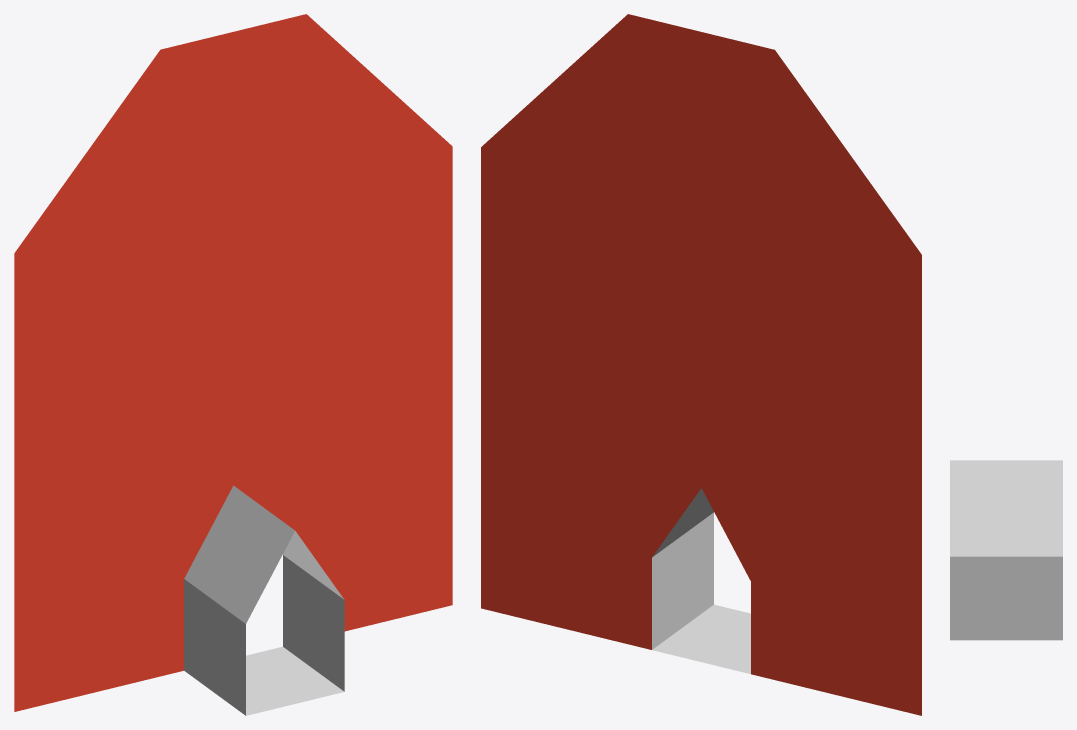
File: windowDoorWall.fbx
The picture shows the model from 3 angles, left to right: view 1: azimuth 30°, elevation 25°; view 2: azimuth 150°, elevation 25°; view 3: azimuth 270°, elevation 25°; orthographic projection. The views are drawn at different scales.
Visible parts, largest first — view 1: WindowDoorWall; view 2: WindowDoorWall; view 3: WindowDoorWall.
Part boxes in pixels (box(x1,y1,x2,y2)): WindowDoorWall: box(14, 14, 452, 715); WindowDoorWall: box(481, 14, 921, 715); WindowDoorWall: box(950, 460, 1062, 640).
Bounding box in the file's own units: 200 × 273 × 48.88.
